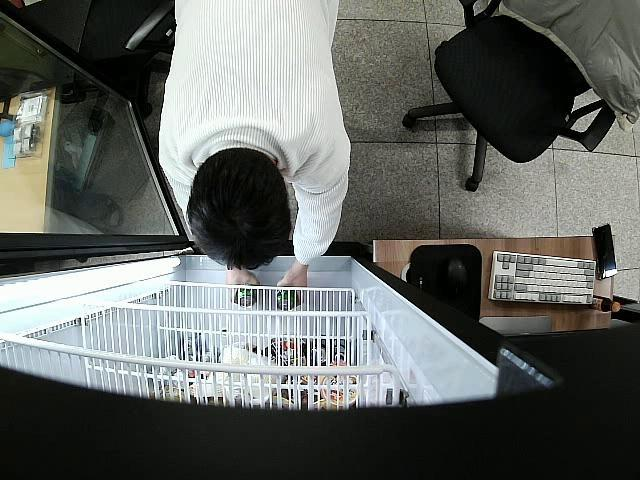12_chilsungCider: (276, 287, 298, 310), (236, 284, 257, 304)
